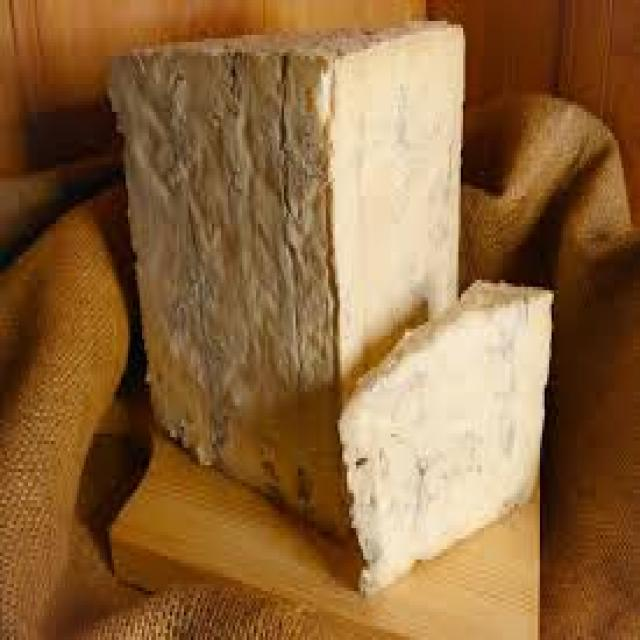Cheese: (108, 0, 488, 500), (332, 258, 545, 566)
